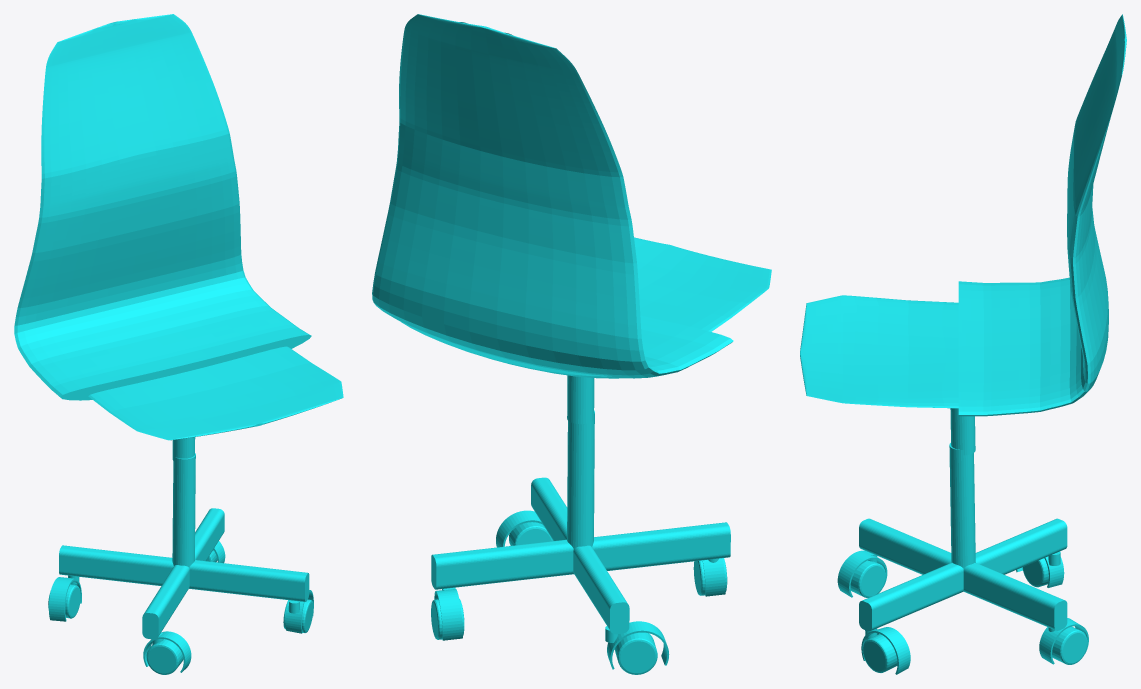
Rendered from office_chair.glb.
3 renders of one model, left to right at view 1: azimuth 30°, elevation 25°; view 2: azimuth 150°, elevation 25°; view 3: azimuth 270°, elevation 25°, orthographic. The views are drawn at different scales.
Visible parts, largest first — view 1: seat_19, chair base_15, chair base_13, leg_17, chair base_14, chair base_16, wheel_4, wheel cap_2, wheel cap_3; view 2: seat_19, chair base_16, chair base_14, leg_17, chair base_13, chair base_15, wheel_1, leg_18, wheel cap_5, wheel cap_2, wheel_7, wheel cap_3 (+1 smaller); view 3: seat_19, chair base_15, chair base_16, leg_17, chair base_14, chair base_13, wheel_6, wheel_4, wheel_7, leg_18, wheel cap_8, wheel cap_3 (+2 smaller).
Boxes of the visible parts, x1,y1,x2,y2 form: seat_19: [14, 14, 343, 440]; chair base_15: [189, 560, 309, 601]; chair base_13: [59, 545, 173, 585]; leg_17: [172, 453, 195, 567]; chair base_14: [142, 565, 189, 639]; chair base_16: [195, 508, 224, 560]; wheel_4: [146, 639, 183, 674]; wheel cap_2: [48, 577, 81, 621]; wheel cap_3: [143, 631, 191, 672]; seat_19: [372, 14, 771, 378]; chair base_16: [431, 539, 573, 589]; chair base_14: [592, 522, 730, 570]; leg_17: [567, 410, 594, 548]; chair base_13: [573, 545, 629, 634]; chair base_15: [531, 477, 567, 540]; wheel_1: [614, 632, 657, 674]; leg_18: [567, 375, 594, 424]; wheel cap_5: [434, 588, 462, 640]; wheel cap_2: [607, 621, 669, 669]; wheel_7: [509, 522, 553, 545]; wheel cap_3: [702, 558, 725, 596]; seat_19: [800, 14, 1126, 416]; chair base_15: [859, 562, 963, 631]; chair base_16: [963, 562, 1067, 630]; leg_17: [949, 443, 975, 568]; chair base_14: [859, 518, 951, 574]; chair base_13: [975, 518, 1067, 574]; wheel_6: [1052, 626, 1087, 664]; wheel_4: [850, 560, 886, 597]; wheel_7: [862, 634, 897, 672]; leg_18: [950, 408, 975, 455]; wheel cap_8: [861, 627, 910, 674]; wheel cap_3: [837, 550, 887, 597].
Bounding box in the file's own units: 0.5168 × 1.07 × 0.5354.
